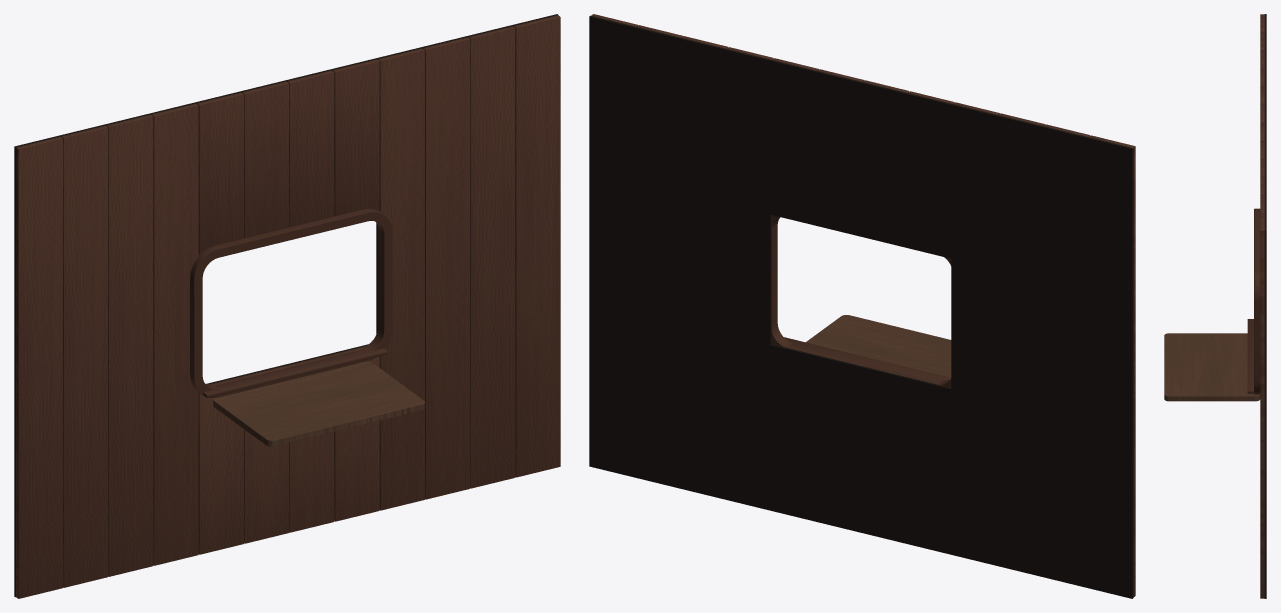
Rendered from carriage.glb.
3 renders of one model, left to right at view 1: azimuth 30°, elevation 25°; view 2: azimuth 150°, elevation 25°; view 3: azimuth 270°, elevation 25°, orthographic. The views are drawn at different scales.
Parts seen in each view (by area): view 1: carriage_wall, carriage_table, carriage_frame, carriage_backing, carriage_sill; view 2: carriage_backing, carriage_table, carriage_wall, carriage_frame, carriage_sill; view 3: carriage_table, carriage_wall, carriage_backing, carriage_frame, carriage_sill.
Boxes of the visible parts, bbox=[...] form: carriage_wall: bbox=[16, 15, 560, 598]; carriage_table: bbox=[213, 361, 425, 446]; carriage_frame: bbox=[190, 208, 392, 397]; carriage_backing: bbox=[14, 14, 558, 597]; carriage_sill: bbox=[203, 348, 387, 398]; carriage_backing: bbox=[589, 15, 1133, 598]; carriage_table: bbox=[806, 315, 951, 377]; carriage_wall: bbox=[591, 14, 1135, 596]; carriage_frame: bbox=[771, 215, 951, 387]; carriage_sill: bbox=[784, 337, 950, 381]; carriage_table: bbox=[1164, 333, 1260, 401]; carriage_wall: bbox=[1260, 14, 1264, 598]; carriage_backing: bbox=[1264, 14, 1266, 598]; carriage_frame: bbox=[1254, 208, 1260, 394]; carriage_sill: bbox=[1247, 319, 1253, 393].
Size of the model in its own units: 2.4 by 1.9 by 0.48.
4 materials, 2 textured.
